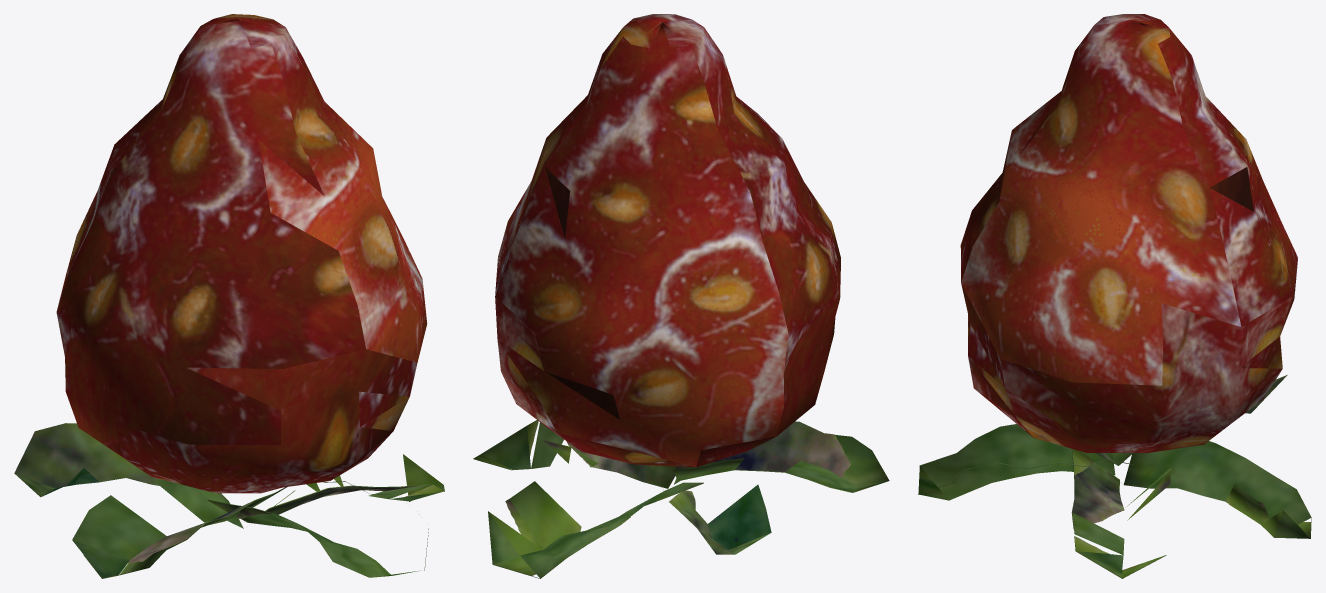
3 renders of one model, left to right at view 1: azimuth 30°, elevation 25°; view 2: azimuth 150°, elevation 25°; view 3: azimuth 270°, elevation 25°, orthographic. The views are drawn at different scales.
Visible parts, largest first — view 1: leaf3; view 2: leaf3; view 3: leaf3.
Part boxes in pixels (left/top/right/bottom): leaf3: left=14, top=14, right=444, bottom=578; leaf3: left=473, top=14, right=889, bottom=578; leaf3: left=918, top=14, right=1311, bottom=578.
Size of the model in its own units: 0.0615 by 0.0587 by 0.0797.
